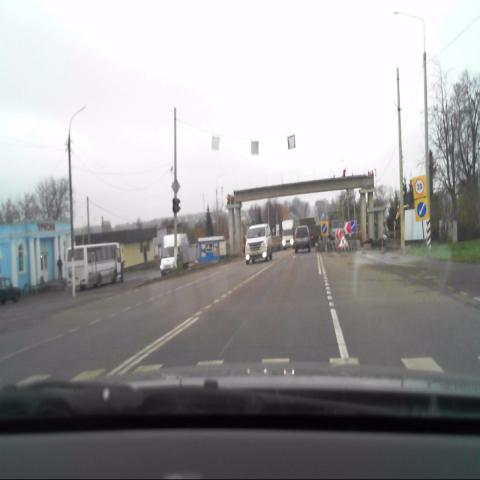4_2_2: (415, 199, 429, 220)
